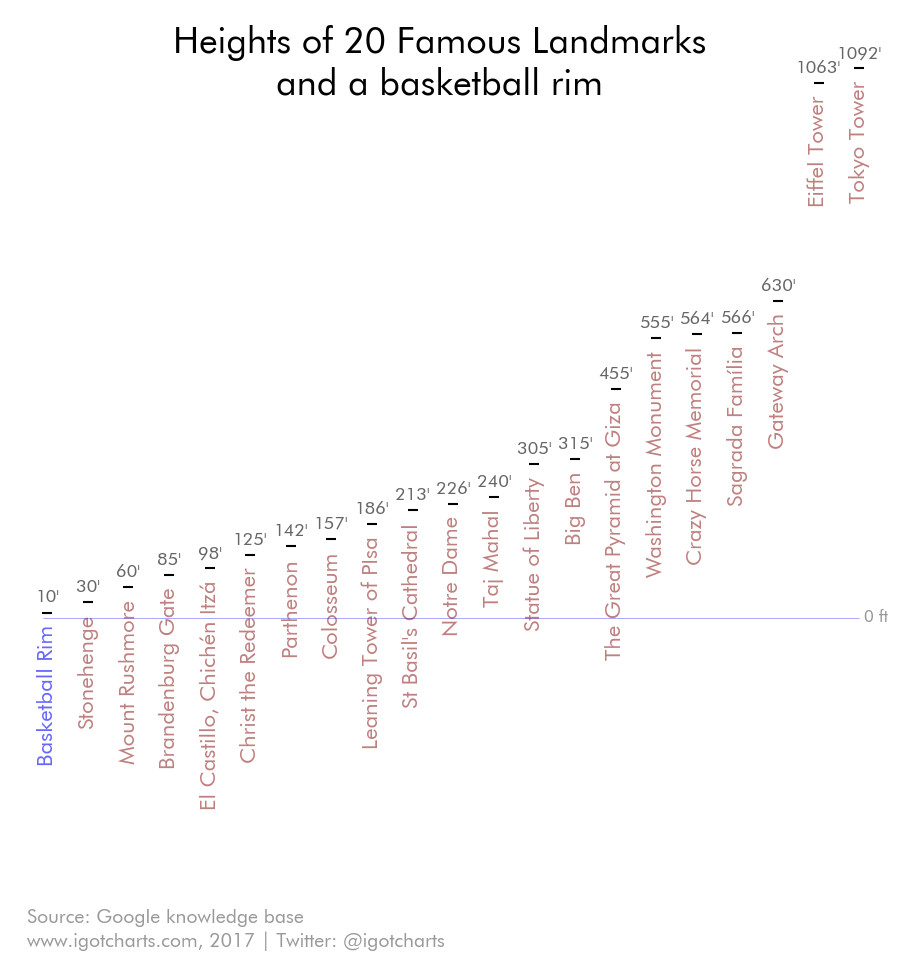

Layout of this report page (visuals, bound fields, positions):
{"tool":"tableau","page":{"name":"Dashboard 1","canvas":[1000,700],"ordinal":0},"visuals":[{"type":"worksheet","title":"Sheet 1","mark":"Shape","rows":["Function"],"cols":["Chart Type"],"box":[7,10,934,584]},{"type":"worksheet","title":"column totals","mark":"Automatic","cols":["Chart Type"],"box":[166,608,777,31]}]}

Visuals, with their boxes on the page's 1000x700 design canvas (x1, y1, x2, y2). These are canvas units, not pixel positions in the 913x976 screenshot, which may show the page scaled, cropped or inside an application window:
"Sheet 1" worksheet (Shape marks): (x1=7, y1=10, x2=941, y2=594)
"column totals" worksheet: (x1=166, y1=608, x2=943, y2=639)
